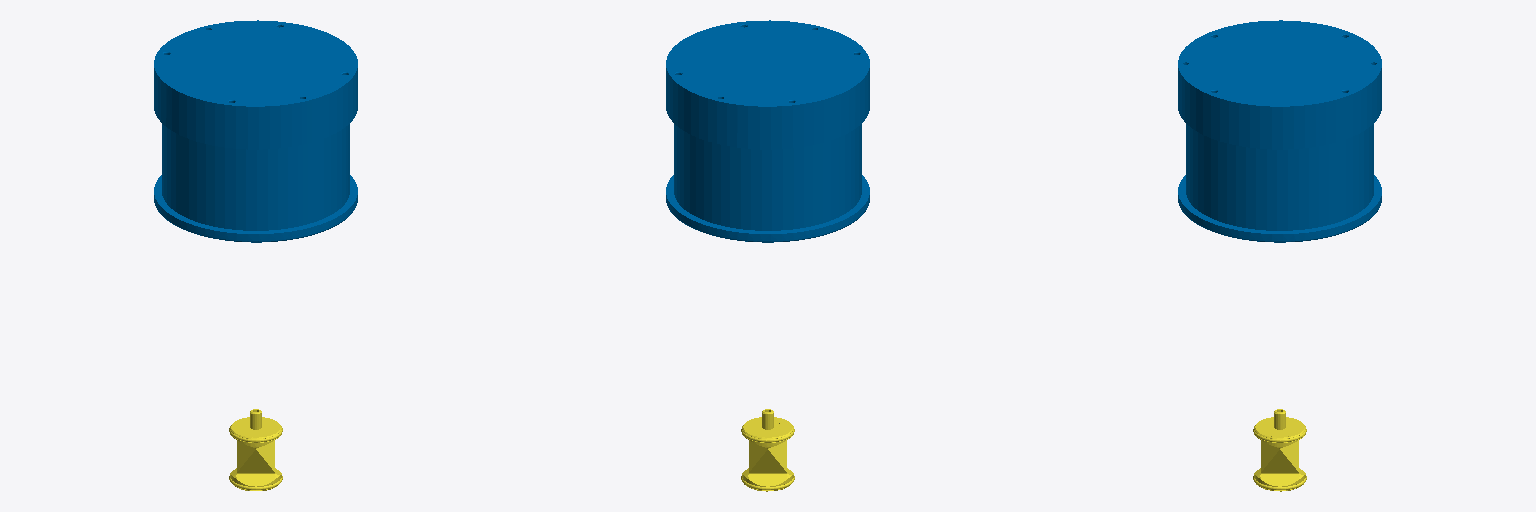
robot.urdf — box:
<?xml version="1.0" ?>
<!-- =================================================================================== -->
<!-- |    This document was autogenerated by xacro from [local-path]/catkin_ws/src/grand_tour_box/box_model/box_model/urdf/box/box.urdf.xacro | -->
<!-- |    EDITING THIS FILE BY HAND IS NOT RECOMMENDED                                 | -->
<!-- =================================================================================== -->
<robot name="box">
  <!-- Prism -->
  <link name="prism"/>
  <!-- Box base -->
  <link name="box_base"/>
  <joint name="box_base_to_prism" type="fixed">
    <origin rpy=" 3.141592653589793                   0.0                   0.0" xyz=" 0.303281493778                   -0.036500000014                   -0.17645647715600002"/>
    <parent link="box_base"/>
    <child link="prism"/>
  </joint>
  <!-- Model base -->
  <link name="box_base_model">
    <visual>
      <geometry>
        <mesh filename="package://box_model/urdf/box/mesh/box_assembly_incl_livox_mount.dae"/>
      </geometry>
    </visual>
  </link>
  <joint name="box_base_to_box_base_model" type="fixed">
    <origin rpy="0.0 0.0 0.0" xyz="-0.02 0.0 0.0"/>
    <parent link="imu_stim320"/>
    <child link="box_base_model"/>
  </joint>
  <link name="prism_model">
    <visual>
      <geometry>
        <mesh filename="package://box_model/urdf/box/mesh/leica_small_prism.dae"/>
      </geometry>
    </visual>
  </link>
  <joint name="prism_to_prism_model" type="fixed">
    <origin rpy="0.0 0.0 0.0" xyz="0.0 0.0 0.0"/>
    <parent link="prism"/>
    <child link="prism_model"/>
  </joint>
  <link name="cpt7_imu"/>
  <!-- CPT7 Coordinate System -->
  <joint name="base_to_cpt7_imu_frame" type="fixed">
    <origin rpy=" 0.0                   0.0                   0.0" xyz=" -0.0                   -0.0                   0.0"/>
    <parent link="box_base"/>
    <child link="cpt7_imu"/>
  </joint>
  <link name="base"/>
  <joint name="cpt7_to_robot_base" type="fixed">
    <origin rpy="3.1415126 0.0 0.0" xyz="-0.0764038 -0.0361 0.2802790"/>
    <parent link="cpt7_imu"/>
    <child link="base"/>
  </joint>
  <link name="cpt7_antenna_front"/>
  <!-- CPT7 Coordinate System -->
  <joint name="cpt7_to_antenna_front" type="fixed">
    <origin rpy="0.0 0.0 0.0" xyz="0.13924890003 -0.0361 -0.1712000"/>
    <parent link="cpt7_imu"/>
    <child link="cpt7_antenna_front"/>
  </joint>
  <link name="cpt7_antenna_back"/>
  <!-- CPT7 Coordinate System -->
  <joint name="cpt7_to_antenna_back" type="fixed">
    <origin rpy="0.0 0.0 0.0" xyz="-0.4404038 -0.0361 -0.0267714"/>
    <parent link="cpt7_imu"/>
    <child link="cpt7_antenna_back"/>
  </joint>
  <link name="State"/>
  <!-- Basilisk IMU Frame -->
  <joint name="base_to_basilisk_imu_frame" type="fixed">
    <origin rpy=" -1.5705926535897934                   0.0                   0.0" xyz=" -0.0027185062219999834                   -0.092500000014                   0.008543522844000007"/>
    <parent link="box_base"/>
    <child link="State"/>
  </joint>
  <!-- ////////// Alphasense ////////// -->
  <!-- Alphasense base (coincides with alphasense Cam0/ front left) -->
  <link name="alphasense_base"/>
  <joint name="box_base_to_alphasense_base" type="fixed">
    <origin rpy=" -1.39539352052961                   0.005878667714337649                   -1.5734445894740188" xyz=" 0.3452182722474499                   -0.09127133225537945                   0.07214748096859896"/>
    <parent link="box_base"/>
    <child link="alphasense_base"/>
  </joint>
  <!-- Alphasense Cam1/ front left (should be identity)-->
  <link name="cam1_sensor_frame"/>
  <joint name="alphasense_base_to_alphasense_front_left" type="fixed">
    <origin rpy=" 0.0                   0.0                   0.0" xyz=" 0.0                   0.0                   0.0"/>
    <parent link="alphasense_base"/>
    <child link="cam1_sensor_frame"/>
  </joint>
  <!-- Alphasense Cam2/ front right -->
  <link name="cam2_sensor_frame"/>
  <joint name="alphasense_base_to_alphasense_front_right" type="fixed">
    <origin rpy=" -0.0005709389162411695                   -0.0020736413455058056                   -0.020414505228272116" xyz=" -0.11049643837408873                   0.0002951449434914941                   -0.0006131480716200081"/>
    <parent link="alphasense_base"/>
    <child link="cam2_sensor_frame"/>
  </joint>
  <!-- Alphasense Cam3/ front middle -->
  <link name="cam3_sensor_frame"/>
  <joint name="alphasense_base_to_alphasense_front_middle" type="fixed">
    <origin rpy=" 0.0007444829511250906                   -0.0006960881951050268                   -0.01708671747377292" xyz=" -0.05530273500370328                   0.0006325050108971435                   -6.415060716975344e-05"/>
    <parent link="alphasense_base"/>
    <child link="cam3_sensor_frame"/>
  </joint>
  <!-- Alphasense Cam4/ left -->
  <link name="cam4_sensor_frame"/>
  <joint name="alphasense_base_to_alphasense_left" type="fixed">
    <origin rpy=" 1.4287233911742216                   -1.4011721916537554                   1.5311525573512614" xyz=" 0.0473043037365011                   -0.012927546781098507                   -0.06795701881364791"/>
    <parent link="alphasense_base"/>
    <child link="cam4_sensor_frame"/>
  </joint>
  <!-- Alphasense Cam5/ right -->
  <link name="cam5_sensor_frame"/>
  <joint name="alphasense_base_to_alphasense_right" type="fixed">
    <origin rpy=" -1.4132991276870994                   -1.410735040862395                   1.586605905580491" xyz=" -0.1584281516739228                   -0.011362147427026133                   -0.06788359342978728"/>
    <parent link="alphasense_base"/>
    <child link="cam5_sensor_frame"/>
  </joint>
  <!-- ////////// HDR ////////// -->
  <!-- HDR Base (coincides with front hdr cam) -->
  <link name="hdr_base"/>
  <joint name="box_base_to_hdr_base" type="fixed">
    <origin rpy=" 1.5683893716937003                   0.0076321779867012385                   1.571833261709149" xyz=" 0.34594666886027137                   -0.035152391202666736                   0.10652373862847034"/>
    <parent link="box_base"/>
    <child link="hdr_base"/>
  </joint>
  <!-- HDR camera front (should be identity) -->
  <link name="hdr_front"/>
  <joint name="hdr_base_to_hdr_front" type="fixed">
    <origin rpy=" 0.0                   0.0                   0.0" xyz=" 0.0                   0.0                   0.0"/>
    <parent link="hdr_base"/>
    <child link="hdr_front"/>
  </joint>
  <!-- HDR camera left -->
  <link name="hdr_left"/>
  <joint name="hdr_base_to_hdr_left" type="fixed">
    <origin rpy=" 3.1334060060844315                   -1.3907535523363899                   -3.1187368575088548" xyz=" -0.10395243226178376                   -0.00040572886653553186                   -0.07601586002775959"/>
    <parent link="hdr_base"/>
    <child link="hdr_left"/>
  </joint>
  <!-- HDR camera right -->
  <link name="hdr_right"/>
  <joint name="hdr_base_to_hdr_right" type="fixed">
    <origin rpy=" -3.1190427799739338                   1.4010622801248123                   -3.1156037564943673" xyz=" 0.10365138712645819                   0.000458635523023089                   -0.07524101214908505"/>
    <parent link="hdr_base"/>
    <child link="hdr_right"/>
  </joint>
  <!-- ////////// ZED2i ////////// -->
  <!-- ZED Base -->
  <link name="zed_base_link"/>
  <joint name="box_base_to_zed_base" type="fixed">
    <origin rpy=" 0.0004073464102066656                   -0.17499999999999982                   -6.881365851650507e-21" xyz=" 0.365281493778                   -0.036500000014                   0.135543522844"/>
    <parent link="box_base"/>
    <child link="zed_base_link"/>
  </joint>
  <link name="zed2i_base_link"/>
  <joint name="zed2i_redundant_indentity" type="fixed">
    <origin rpy="0 0 0" xyz="0 0 0"/>
    <parent link="zed_base_link"/>
    <child link="zed2i_base_link"/>
  </joint>
  <link name="zed2i_camera_center"/>
  <joint name="zed2i_base_to_camera_center" type="fixed">
    <origin rpy=" 0.0                   0.0                   0.0" xyz=" 0                   0                   0.015"/>
    <parent link="zed2i_base_link"/>
    <child link="zed2i_camera_center"/>
  </joint>
  <link name="zed2i_left_camera_frame"/>
  <joint name="zed_camera_center_to_zed_left" type="fixed">
    <origin rpy=" 0.0                   0.0                   0.0" xyz=" -0.01                   0.06                   0.0"/>
    <parent link="zed2i_camera_center"/>
    <child link="zed2i_left_camera_frame"/>
  </joint>
  <link name="zed2i_left_camera_optical_frame"/>
  <joint name="zed_left_to_optical" type="fixed">
    <origin rpy=" -1.570796325                   0.0                   -1.570796325" xyz=" 0                   0                   0"/>
    <parent link="zed2i_left_camera_frame"/>
    <child link="zed2i_left_camera_optical_frame"/>
  </joint>
  <link name="zed2i_imu_link"/>
  <joint name="zed_base_to_zed_imu_link" type="fixed">
    <origin rpy=" -0.003667399999999999                   0.00044679999999996944                   -0.013021399999999999" xyz=" -0.002                   -0.023061                   0.000217"/>
    <parent link="zed2i_left_camera_frame"/>
    <child link="zed2i_imu_link"/>
  </joint>
  <link name="zed2i_right_camera_optical_frame"/>
  <joint name="zed_left_optical_to_zed_right_optical" type="fixed">
    <origin rpy=" 0.0015141712684178029                   -0.0016352315604488687                   -0.002429802185043824" xyz=" 0.11990037039721589                   -0.00038930934427724995                   0.0006435643039102157"/>
    <parent link="zed2i_left_camera_optical_frame"/>
    <child link="zed2i_right_camera_optical_frame"/>
  </joint>
  <link name="zed2i_right_camera_frame"/>
  <joint name="zed_camera_center_to_zed_right" type="fixed">
    <origin rpy=" 1.570796325                   -1.570796325                   0.0" xyz=" 0                   0                   0"/>
    <parent link="zed2i_right_camera_optical_frame"/>
    <child link="zed2i_right_camera_frame"/>
  </joint>
  <!-- hesai_lidar -->
  <link name="hesai_lidar"/>
  <joint name="box_base_to_hesai" type="fixed">
    <origin rpy=" 3.141592653589793                   0.0                   -1.571" xyz=" 0.303281493778                   -0.036500000014                   -0.005456477156000006"/>
    <parent link="box_base"/>
    <child link="hesai_lidar"/>
  </joint>
  <link name="hesai_model">
    <visual>
      <geometry>
        <mesh filename="package://box_model/urdf/box/mesh/hesai_lidar.dae"/>
      </geometry>
    </visual>
  </link>
  <joint name="hesai_lidar_to_hesai_model" type="fixed">
    <origin rpy="0.0 0.0 0.0" xyz="0.0 0.0 0.0"/>
    <parent link="hesai_lidar"/>
    <child link="hesai_model"/>
  </joint>
  <!-- Livox -->
  <link name="livox_lidar"/>
  <joint name="box_base_to_livox" type="fixed">
    <origin rpy=" 0.00040734641020666556                   0.0                   0.0" xyz=" 0.303281493778                   -0.036500000014                   -0.100456477156"/>
    <parent link="box_base"/>
    <child link="livox_lidar"/>
  </joint>
  <link name="livox_model">
    <visual>
      <geometry>
        <mesh filename="package://box_model/urdf/box/mesh/livox_mid360_lidar.dae"/>
      </geometry>
    </visual>
  </link>
  <joint name="livox_to_livox_model" type="fixed">
    <origin rpy="0.0 0.0 0.0" xyz="0.0 0.0 0.0"/>
    <parent link="livox_lidar"/>
    <child link="livox_model"/>
  </joint>
  <link name="livox_imu"/>
  <!-- From page 15 https://terra-1-g.djicdn.com/851d20f7b9f64838a34cd02351370894/Livox/Livox_Mid-360_User_Manual_EN.pdf -->
  <joint name="livox_to_livox_imu_frame" type="fixed">
    <origin rpy="0.0 0.0 0.0" xyz="0.011 0.02329 -0.04412"/>
    <parent link="livox_lidar"/>
    <child link="livox_imu"/>
  </joint>
  <!-- IMU STIM320 -->
  <link name="imu_stim320"/>
  <joint name="box_base_to_imu_stim320" type="fixed">
    <origin rpy=" 3.141592653589793                   0.0                   0.0" xyz=" 0.290281493778                   -0.058500000014                   0.163543522844"/>
    <parent link="box_base"/>
    <child link="imu_stim320"/>
  </joint>
  <!-- IMU ADIS16475 -->
  <link name="imu_adis16475"/>
  <joint name="box_base_to_imu_adis16475" type="fixed">
    <origin rpy=" 3.141592653589793                   0.0                   -1.571" xyz=" 0.32228149377799997                   -0.002500000013999998                   0.161543522844"/>
    <parent link="box_base"/>
    <child link="imu_adis16475"/>
  </joint>
  <!-- IMU alphasesnse -->
  <link name="imu_sensor_frame"/>
  <joint name="box_base_to_imu_alphasense" type="fixed">
    <origin rpy=" -3.5897930298416118e-09                   0.0                   0.0" xyz=" 0.290281493778                   -0.058500000014                   0.163543522844"/>
    <parent link="box_base"/>
    <child link="imu_sensor_frame"/>
  </joint>
</robot>

--- What the picture shows (computed from the rendered views, not written in the file) ---
The picture shows the robot from 3 angles, left to right: view 1: azimuth 30°, elevation 25°; view 2: azimuth 150°, elevation 25°; view 3: azimuth 270°, elevation 25°; orthographic projection.
Model box with 35 links and 34 joints (34 fixed), rooted at box_base, posed all joints at 0.
Visible links, largest first — view 1: hesai_model, prism_model; view 2: hesai_model, prism_model; view 3: hesai_model, prism_model.
Link boxes in pixels (left/top/right/bottom): hesai_model: left=154, top=20, right=357, bottom=242; prism_model: left=229, top=409, right=282, bottom=490; hesai_model: left=666, top=20, right=869, bottom=242; prism_model: left=741, top=409, right=794, bottom=491; hesai_model: left=1178, top=20, right=1381, bottom=242; prism_model: left=1253, top=409, right=1306, bottom=491.
Bounding box of the posed robot: 0.103 × 0.103 × 0.2324 m (x, y, z).
2 mesh visuals loaded from 4 distinct referenced files (2 Collada DAE); not drawn: 2 (reference not matched to a file when rendering).